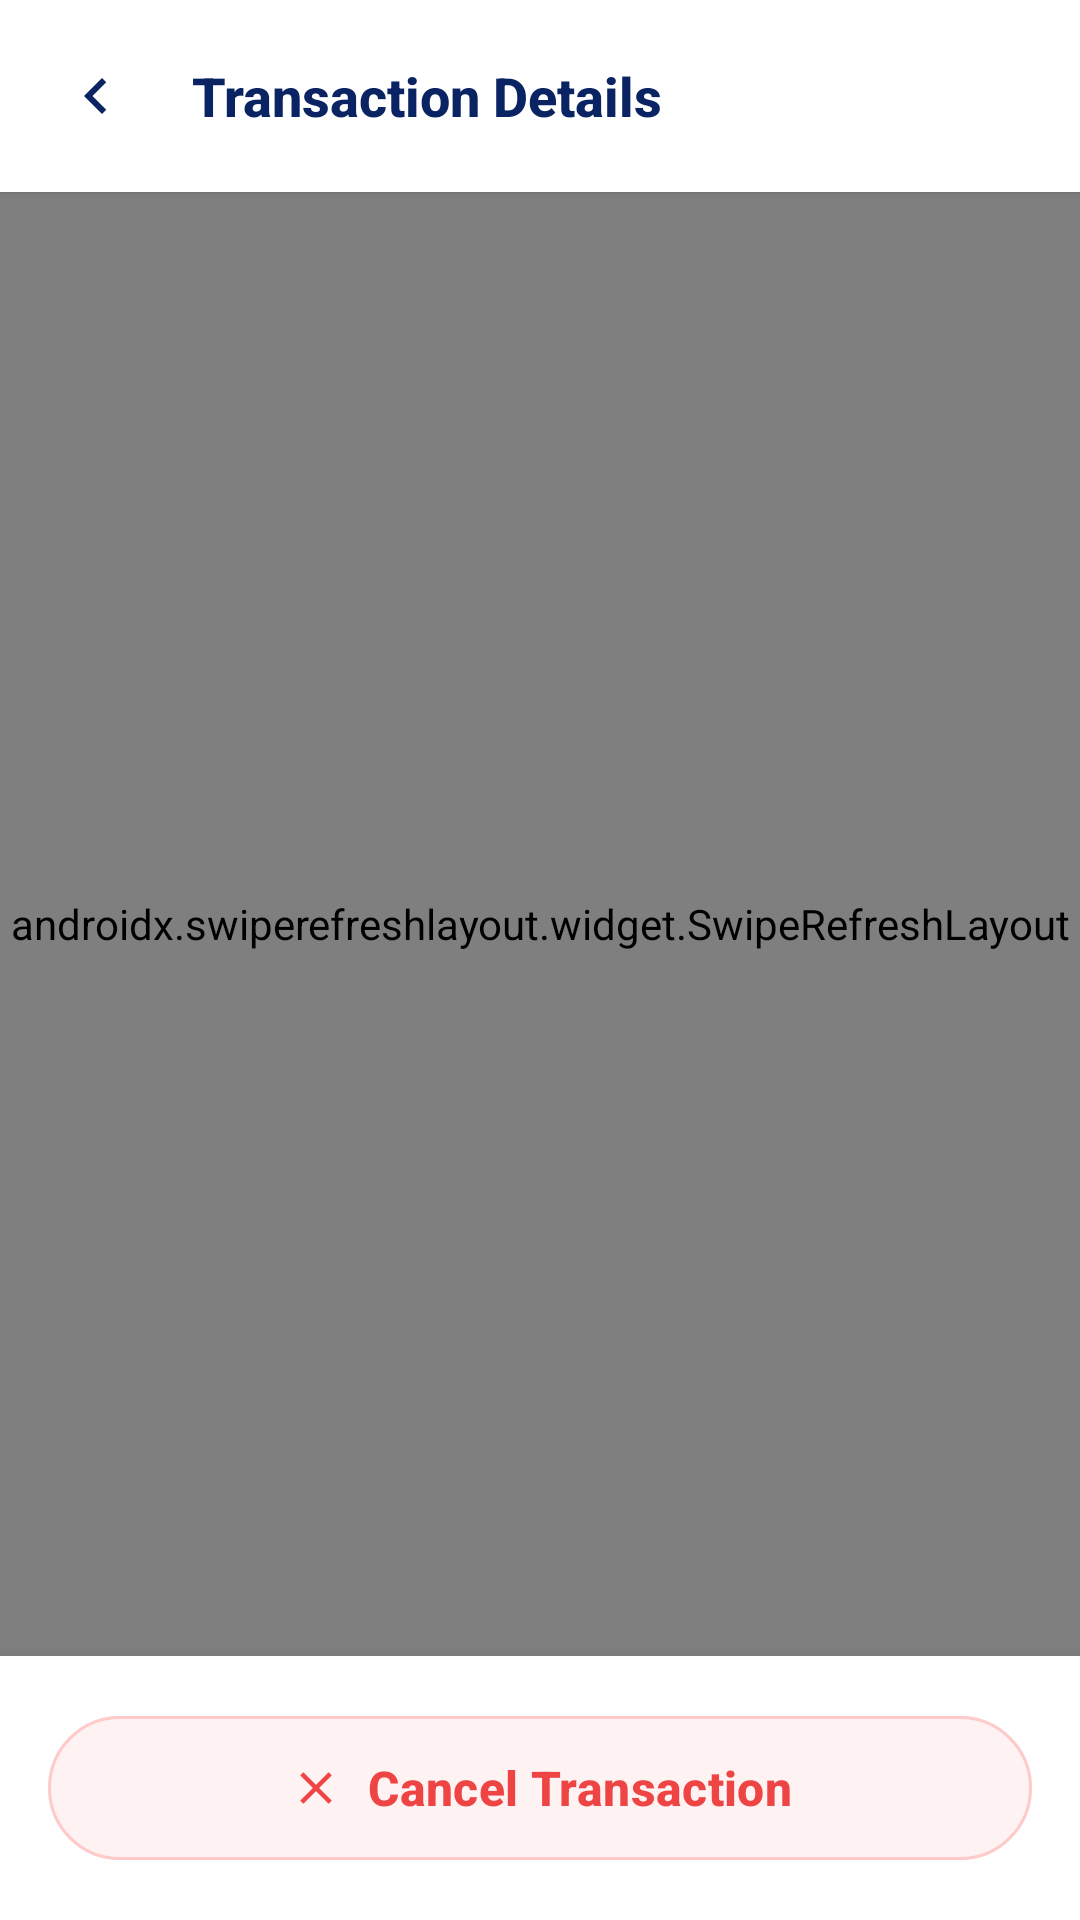

Icon click points for this 1080*1920 phone screenshot, format [x,y]:
Back: [95,96]
